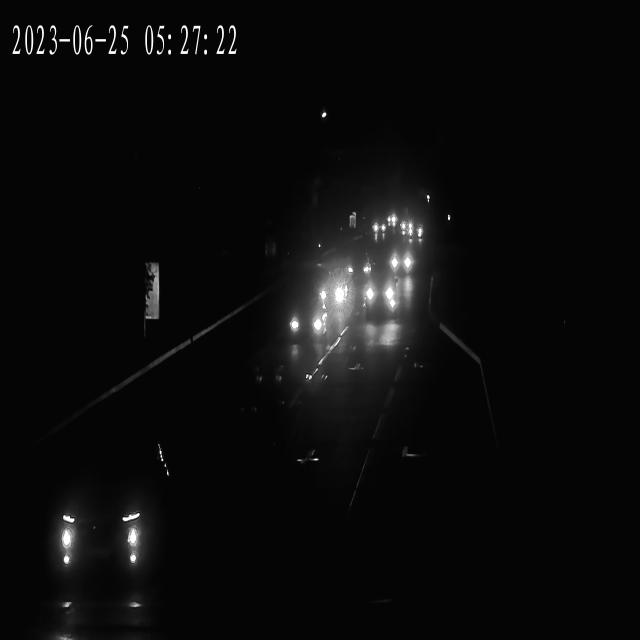Car: (59, 427, 172, 577), (289, 295, 329, 344), (358, 275, 398, 323), (319, 266, 350, 312), (391, 239, 414, 277), (372, 216, 387, 242), (385, 205, 399, 231), (398, 218, 414, 232), (410, 232, 424, 246)
